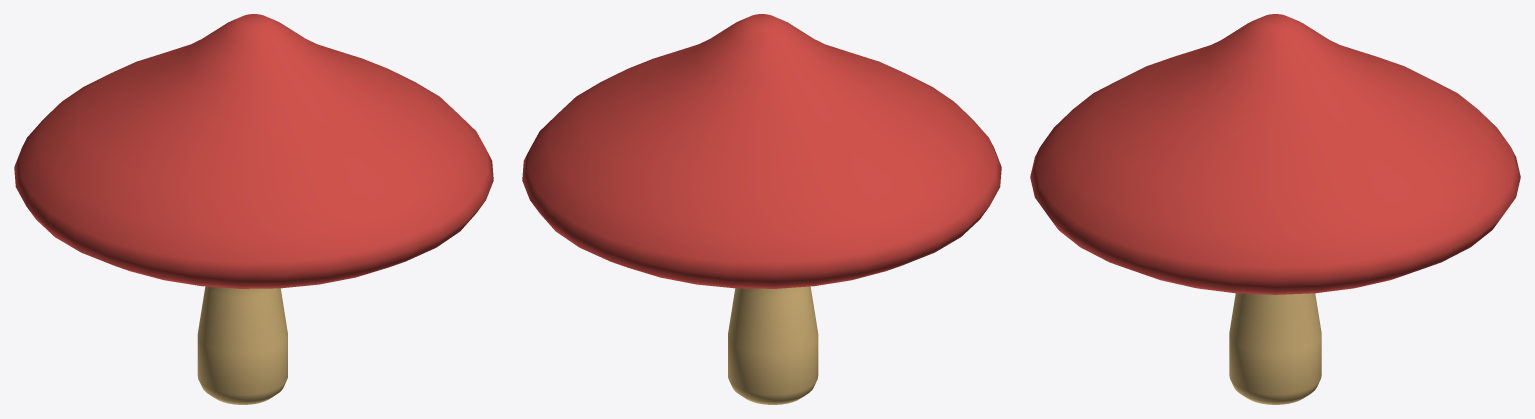
Rendered from mushroom.fbx.
3 renders of one model, left to right at view 1: azimuth 30°, elevation 25°; view 2: azimuth 150°, elevation 25°; view 3: azimuth 270°, elevation 25°, orthographic. The views are drawn at different scales.
Parts seen in each view (by area): view 1: Mushroom; view 2: Mushroom; view 3: Mushroom.
Part boxes in pixels (x1,y1,x2,y2): Mushroom: (14,14,493,404); Mushroom: (522,14,1001,404); Mushroom: (1030,14,1520,404).
Bounding box in the file's own units: 237 × 237 × 200.
